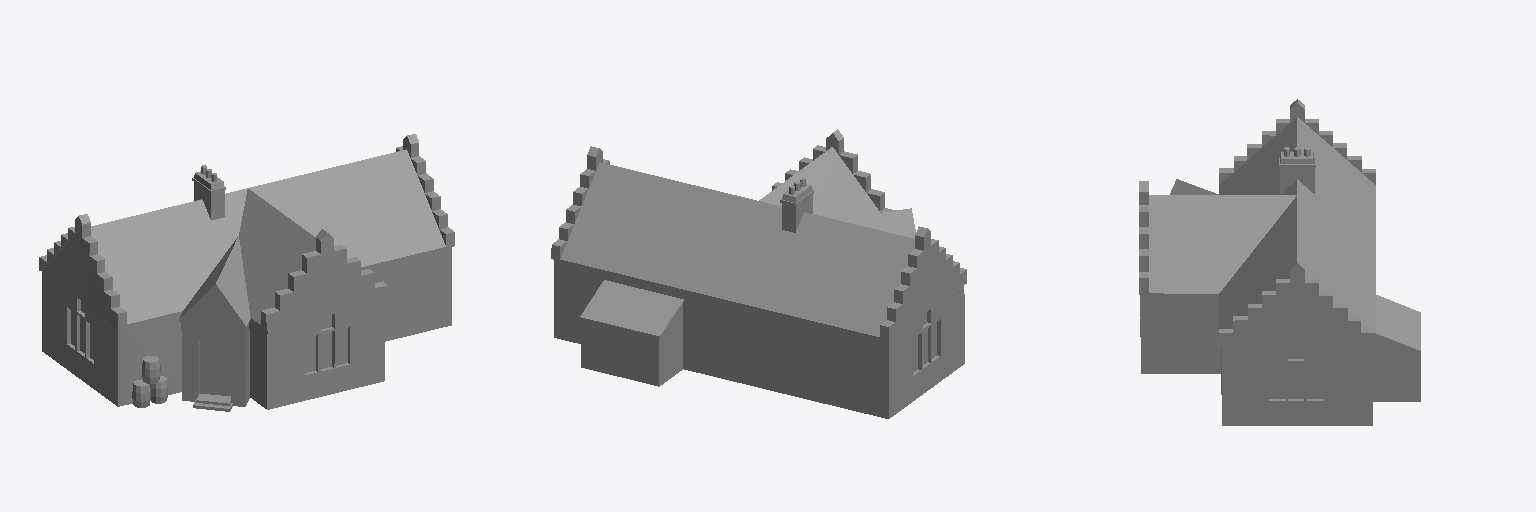
Rendered from house_obj_fix.obj.
The picture shows the model from 3 angles: view 1: azimuth 30°, elevation 25°; view 2: azimuth 150°, elevation 25°; view 3: azimuth 270°, elevation 25°; orthographic projection.
Parts seen in each view (by area): view 1: House; view 2: House; view 3: House.
Part boxes in pixels (x1,y1,x2,y2): House: (39, 134, 454, 411); House: (551, 129, 966, 418); House: (1139, 99, 1420, 425).
Bounding box in the file's own units: 20.12 × 10.13 × 14.59.